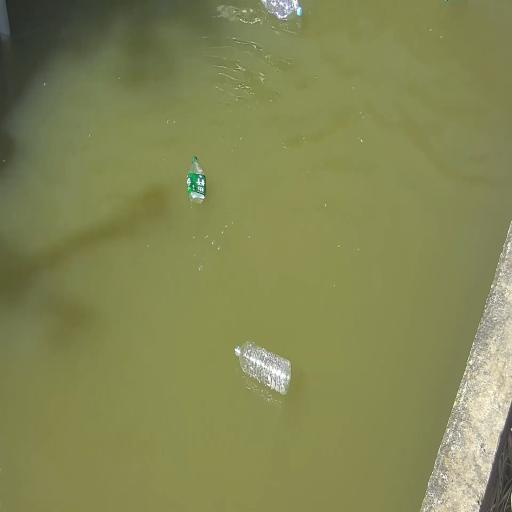plastic: (233, 337, 292, 397), (186, 153, 207, 208), (258, 0, 303, 23)
